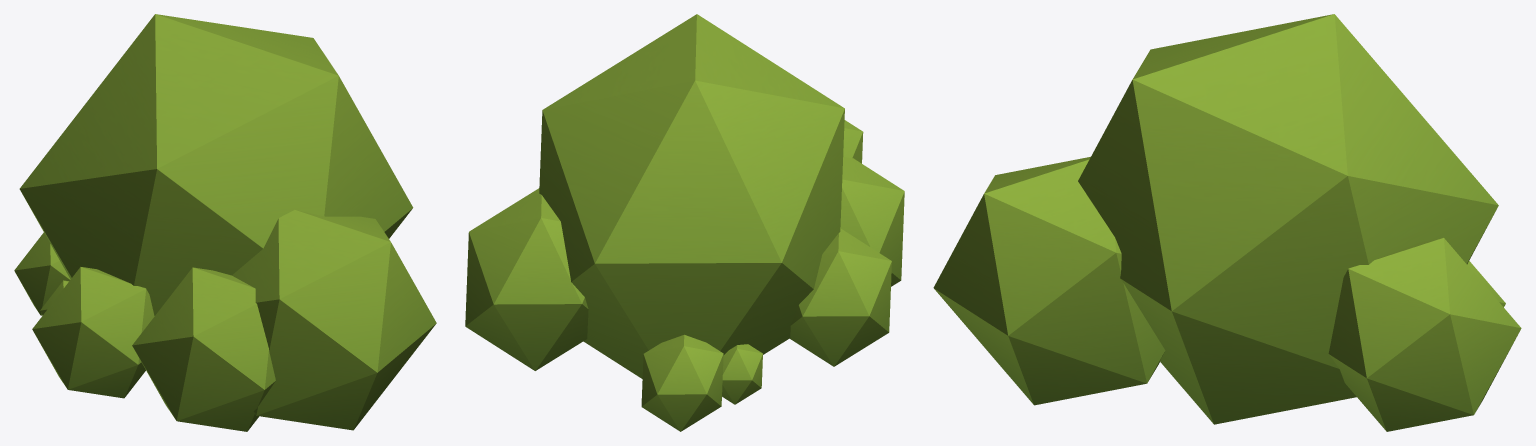
The model's file is arbusto12.fbx.
The picture shows the model from 3 angles, left to right: view 1: azimuth 30°, elevation 25°; view 2: azimuth 150°, elevation 25°; view 3: azimuth 270°, elevation 25°; orthographic projection. The views are drawn at different scales.
Parts seen in each view (by area): view 1: arbusto12; view 2: arbusto12; view 3: arbusto12.
Part boxes in pixels (x1=…): arbusto12: x1=14, y1=14, x2=436, y2=431; arbusto12: x1=465, y1=14, x2=904, y2=431; arbusto12: x1=933, y1=14, x2=1521, y2=431.
Bounding box in the file's own units: 182 × 164 × 232.
